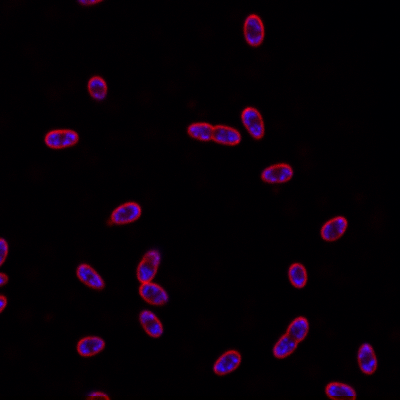MP265: (272, 315, 311, 359), (185, 120, 241, 147), (107, 200, 143, 226), (210, 348, 243, 376), (241, 13, 266, 48), (74, 262, 105, 290), (258, 161, 294, 185), (239, 106, 265, 139), (318, 215, 349, 242), (356, 340, 379, 376), (137, 281, 170, 306), (73, 334, 107, 358), (43, 128, 80, 150), (138, 309, 164, 339), (286, 261, 308, 290)
Oblique: (135, 248, 161, 282), (86, 74, 110, 101)
